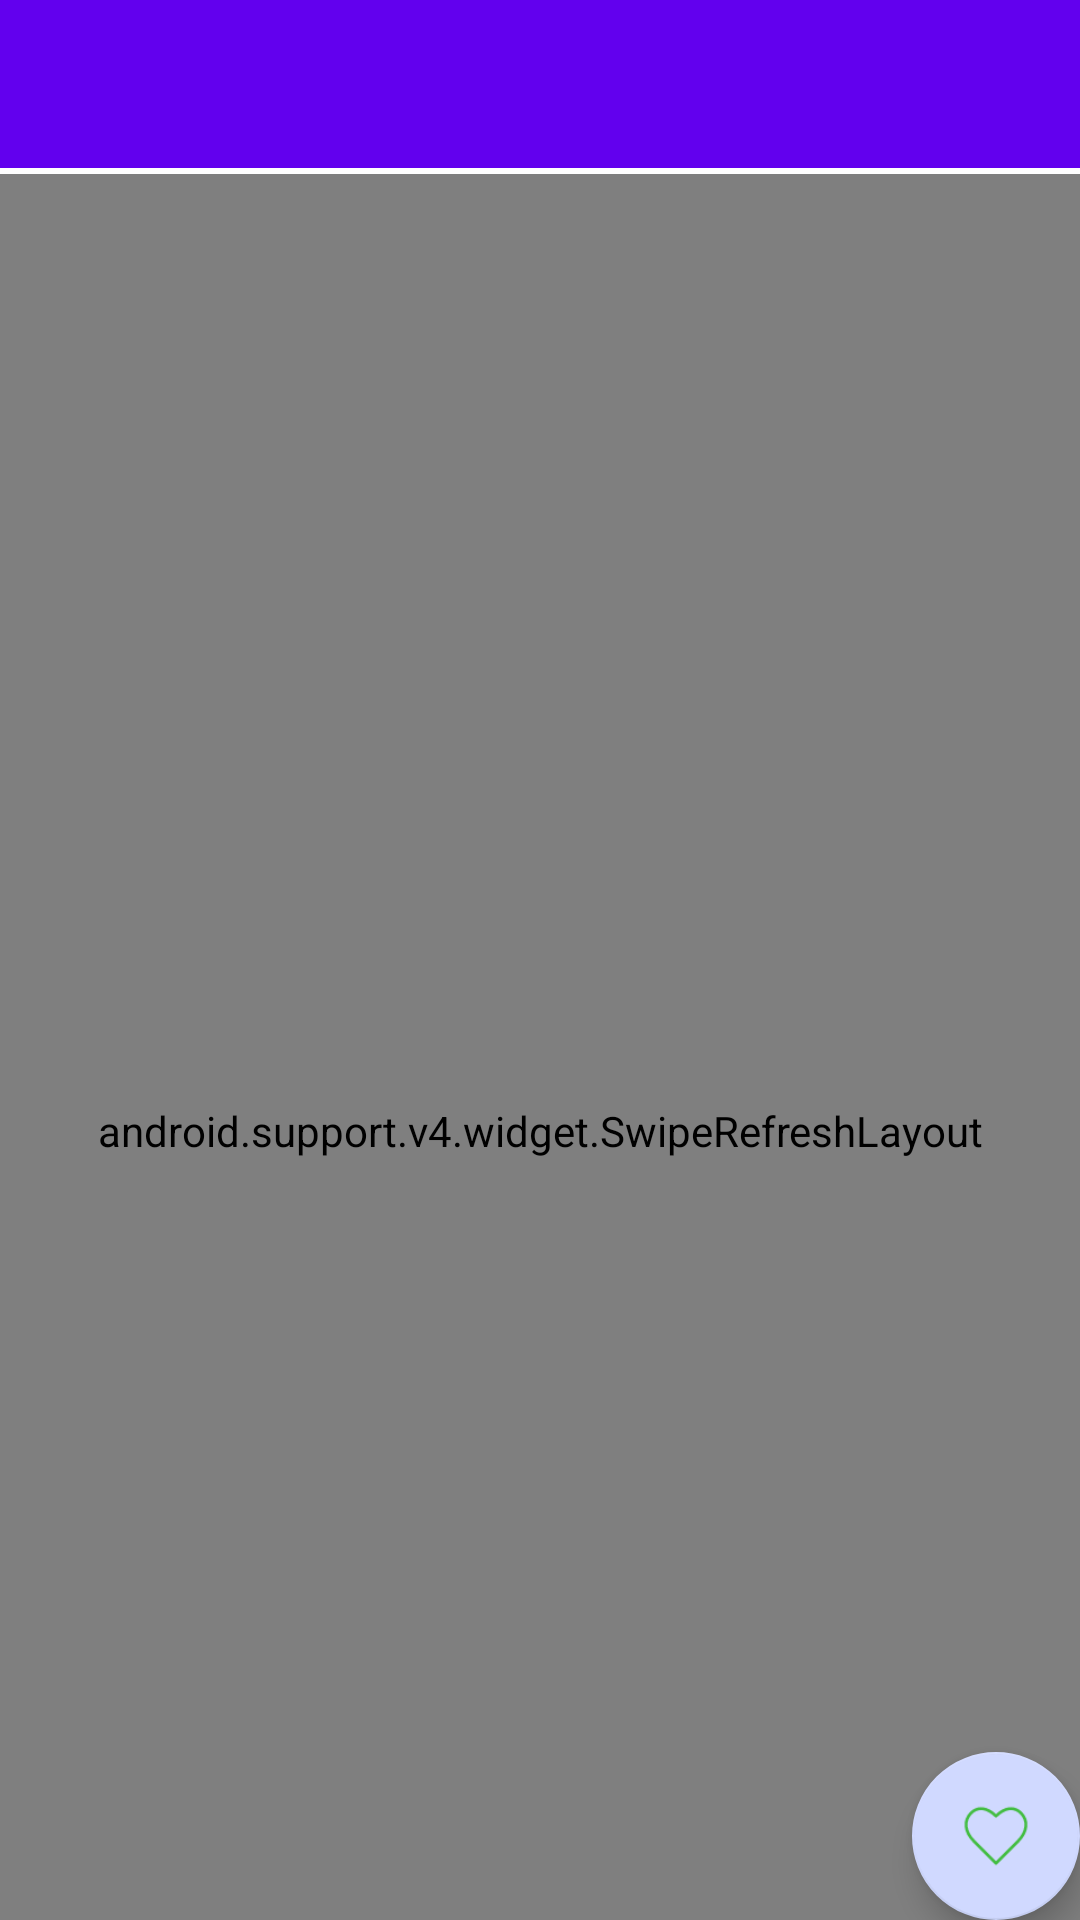

Icons on this 1080x1920 Android screen, each with its box as (x1, y1, x2, y2):
favour: (912, 1752, 1080, 1920)
